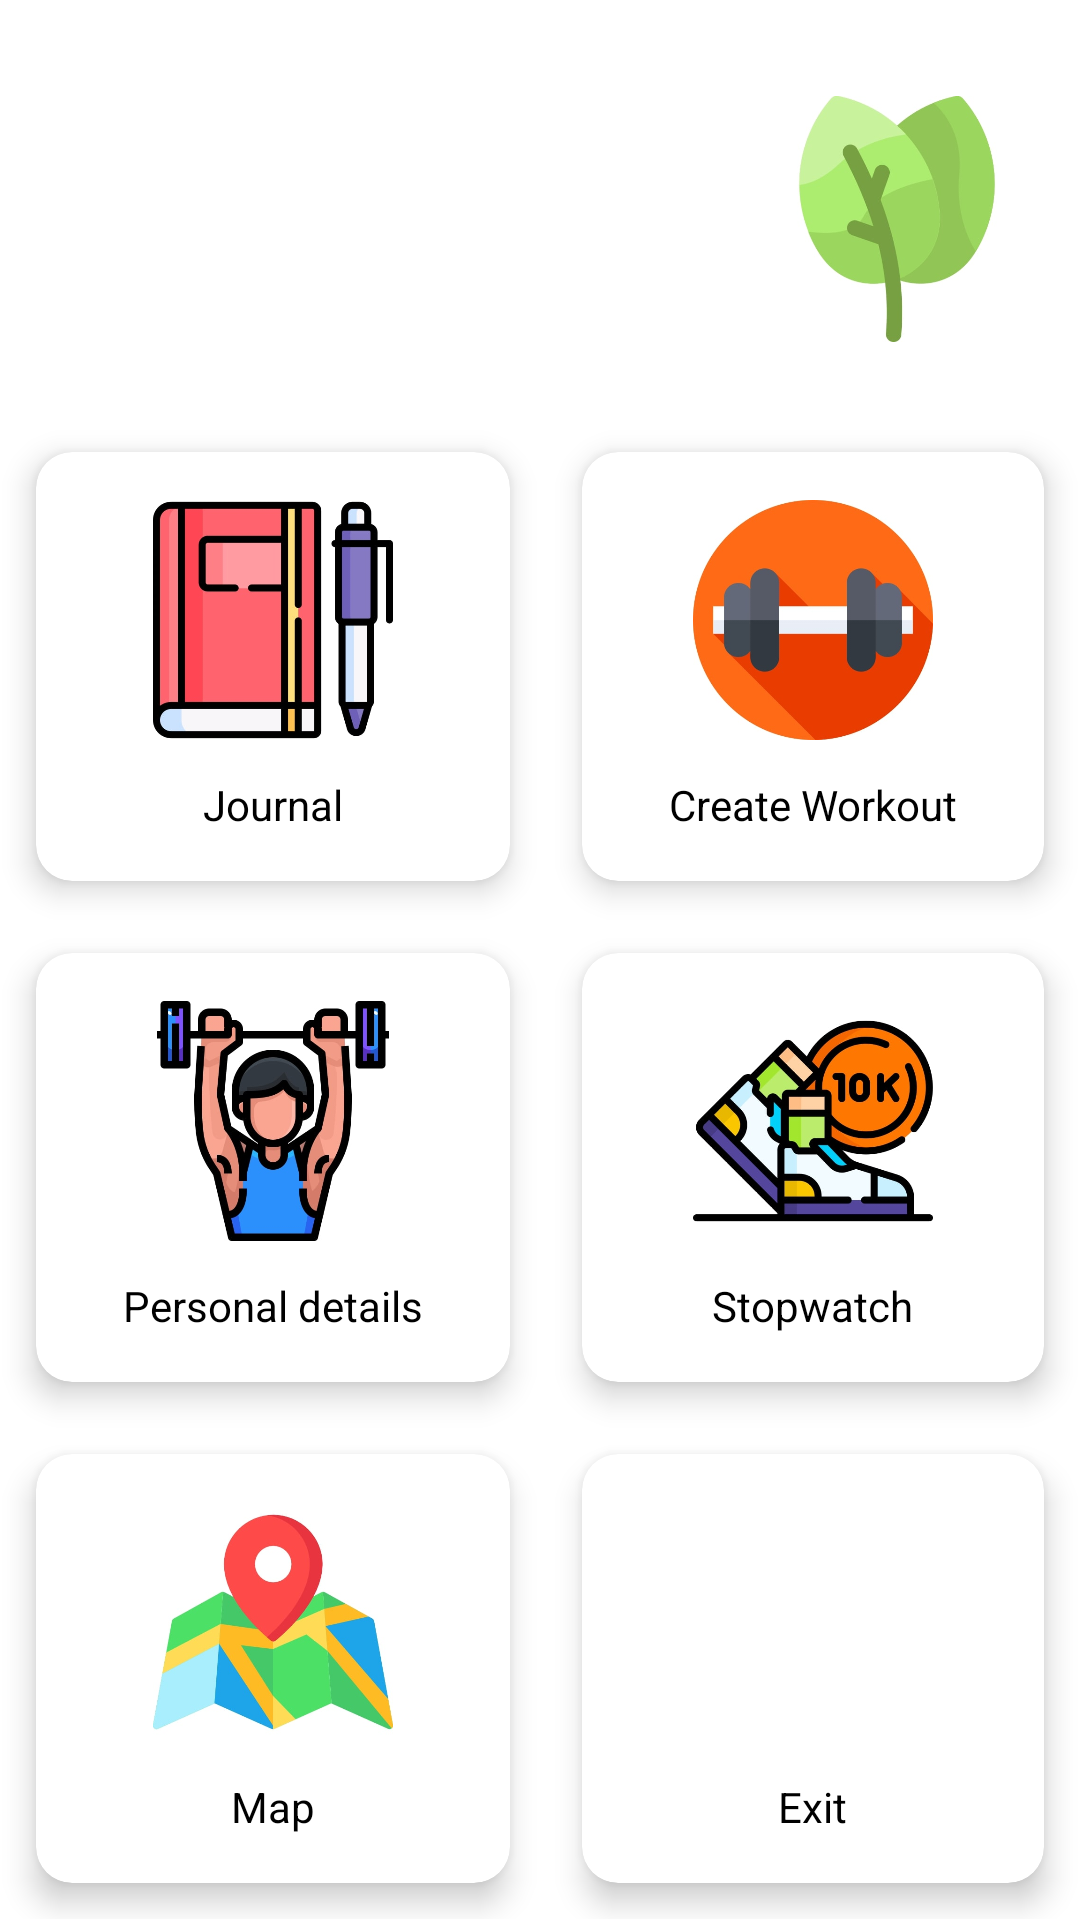

Named icons in this screenshot (1080*1920) and their bounding boxes, [x1,y1,x2,y2]:
barbell: [693,500,933,740]
leaves: [799,96,995,342]
pedometer: [693,1020,933,1222]
weightlifter: [157,1001,389,1241]
